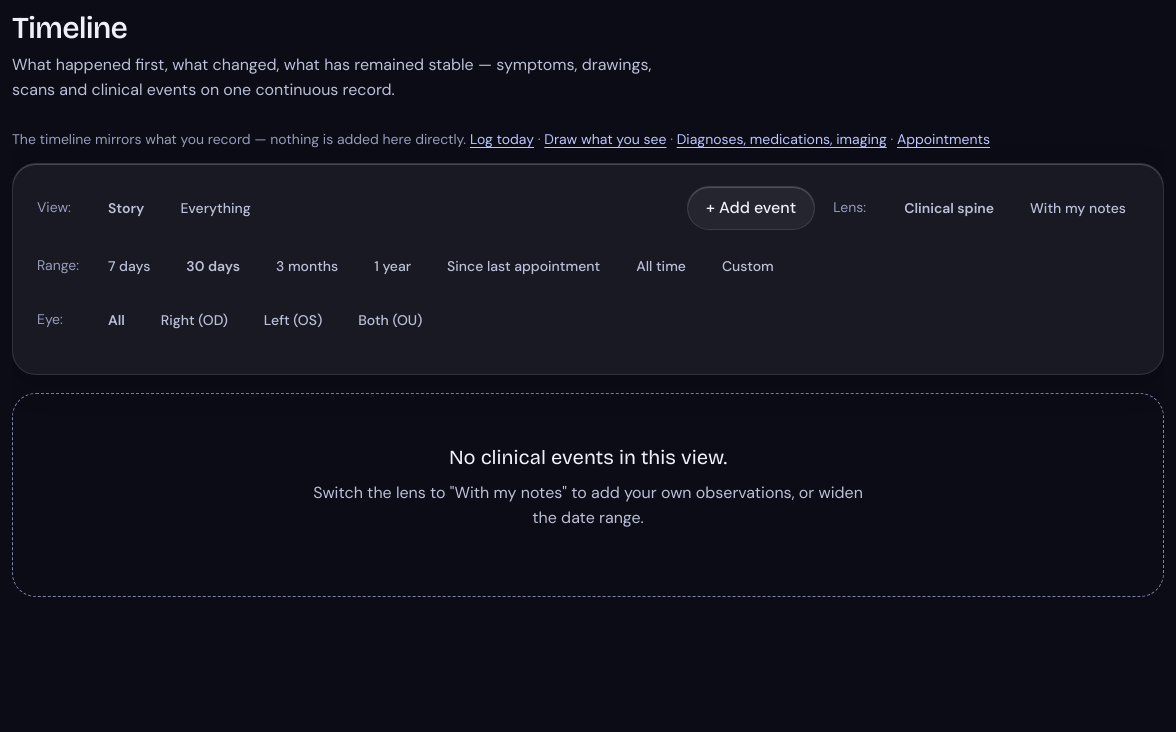
it: Timeline › labels events with their source rather than blending them
The image size is (1176, 732).
Click the button "With my notes".
click(1078, 208)  # box [1017, 186, 1139, 230]
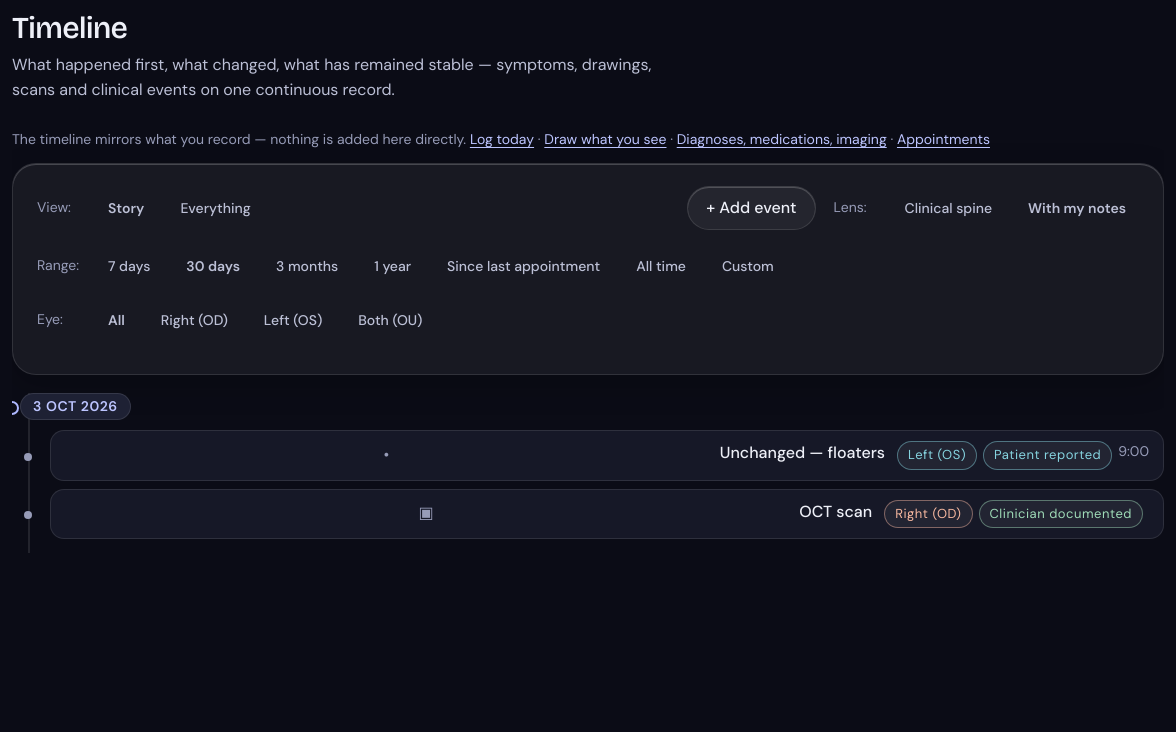
Expected: the text "Patient reported" is shown, [983, 441, 1112, 470]
Expected: the text "Clinician documented" is shown, [978, 500, 1143, 528]
